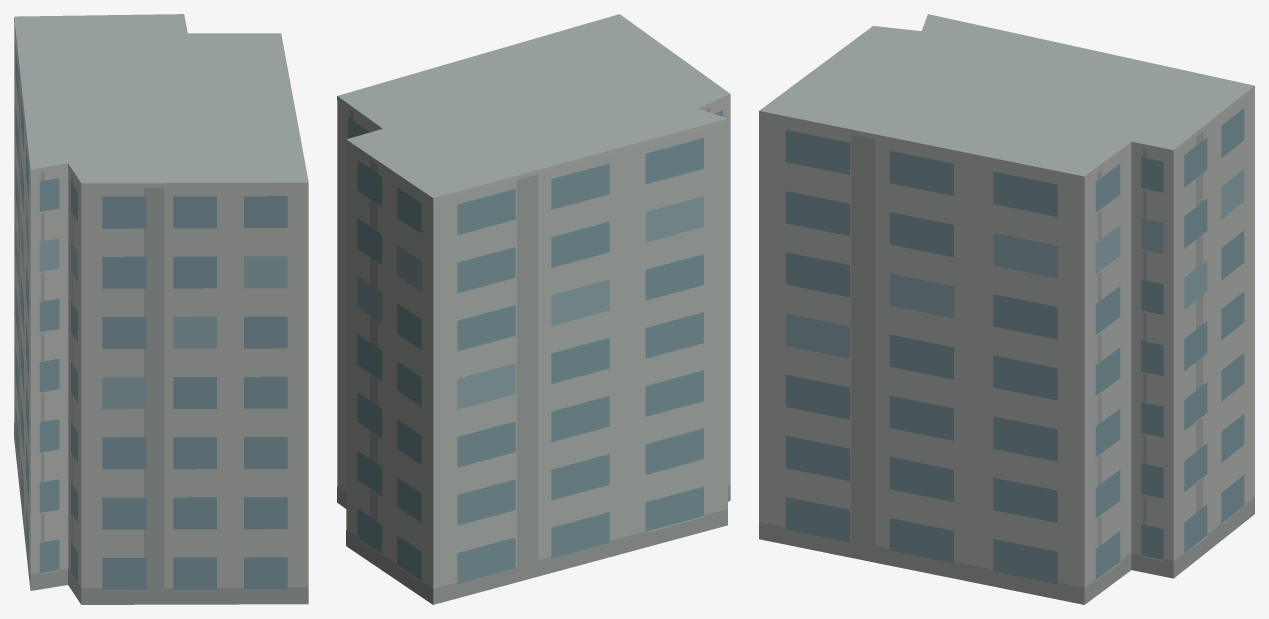
The model's file is survey-upis-33040317.glb.
3 views of the same model, side by side, from view 1: azimuth 30°, elevation 25°; view 2: azimuth 150°, elevation 25°; view 3: azimuth 270°, elevation 25° (orthographic). The views are drawn at different scales.
Visible parts, largest first — view 1: survey-upis-33040317.tmp; view 2: survey-upis-33040317.tmp; view 3: survey-upis-33040317.tmp.
Boxes of the visible parts, x1,y1,x2,y2 form: survey-upis-33040317.tmp: (14, 14, 308, 604); survey-upis-33040317.tmp: (337, 14, 730, 604); survey-upis-33040317.tmp: (759, 14, 1254, 604).
Size of the model in its own units: 17.47 by 21.46 by 22.52.
